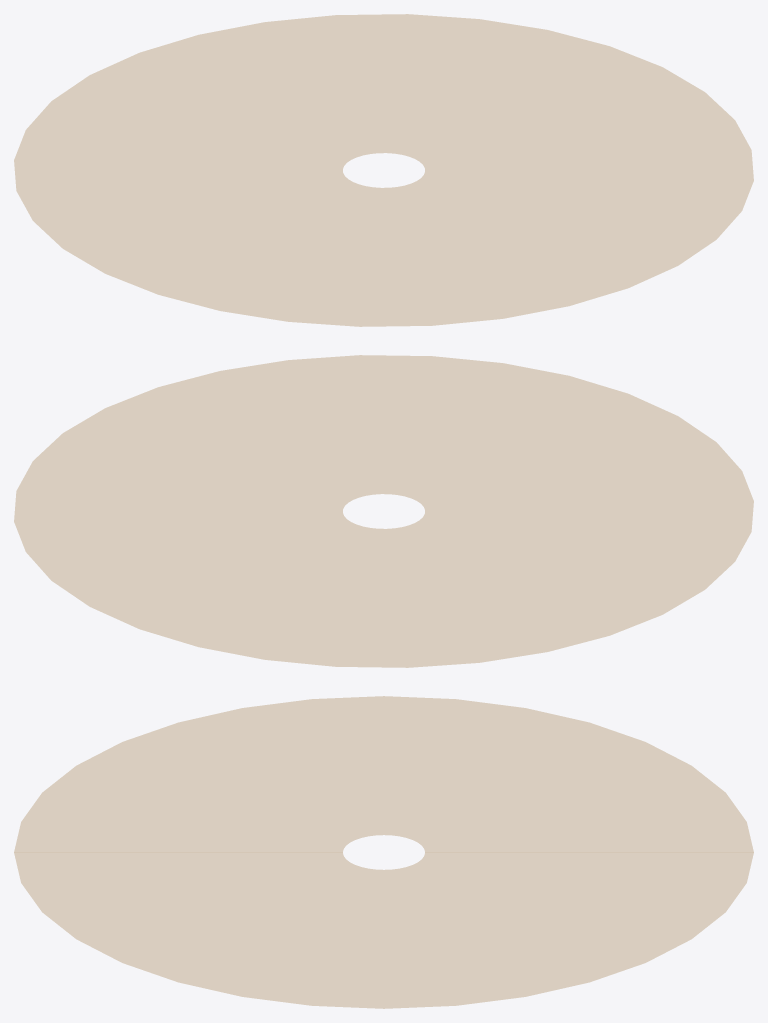
The model's file is landing-dust-ring.glb.
3 views of the same model, one above another, from view 1: azimuth 30°, elevation 25°; view 2: azimuth 150°, elevation 25°; view 3: azimuth 270°, elevation 25° (orthographic).
Parts seen in each view (by area): view 1: dust-ring; view 2: dust-ring; view 3: dust-ring.
Part boxes in pixels (x1,y1,x2,y2): dust-ring: (14, 14, 753, 326); dust-ring: (14, 355, 753, 667); dust-ring: (14, 696, 753, 1008).
Bounding box in the file's own units: 36 × 2.2e-15 × 36.
